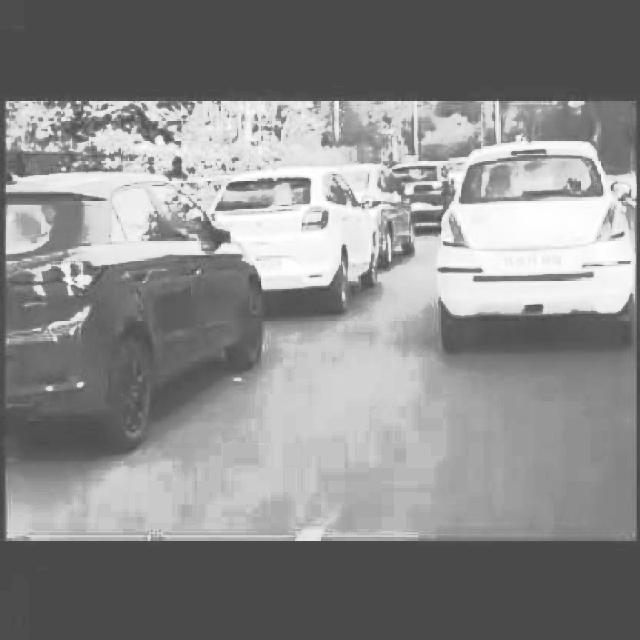Car: (0, 159, 280, 443), (443, 131, 638, 353), (226, 165, 385, 320), (358, 163, 426, 254), (409, 164, 455, 232)
